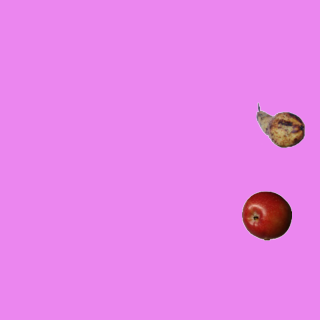Apple Braeburn: (241, 190, 291, 240)
Pear Abate: (255, 100, 305, 150)
